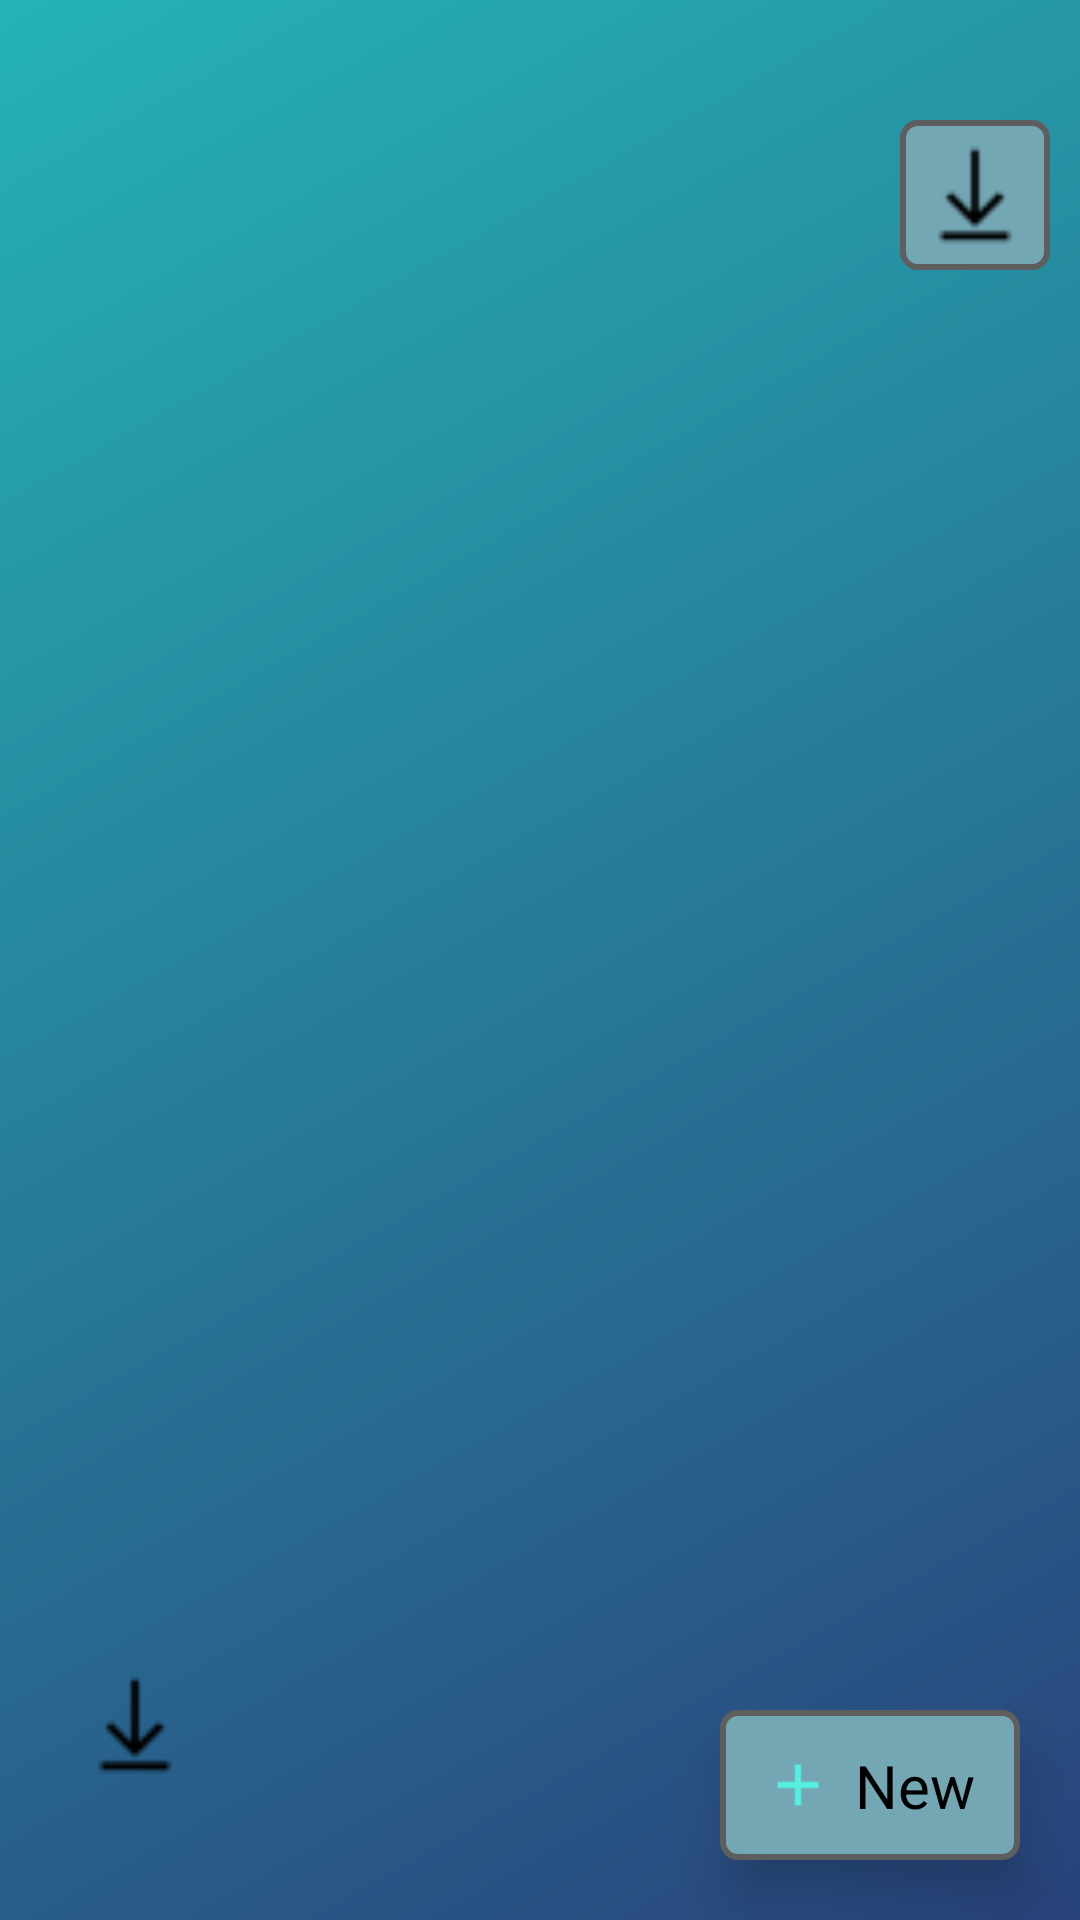

Where to tap for icons on this 1080px x 1920px app screen, as (x,y):
download: (975,195), (135,1725)
